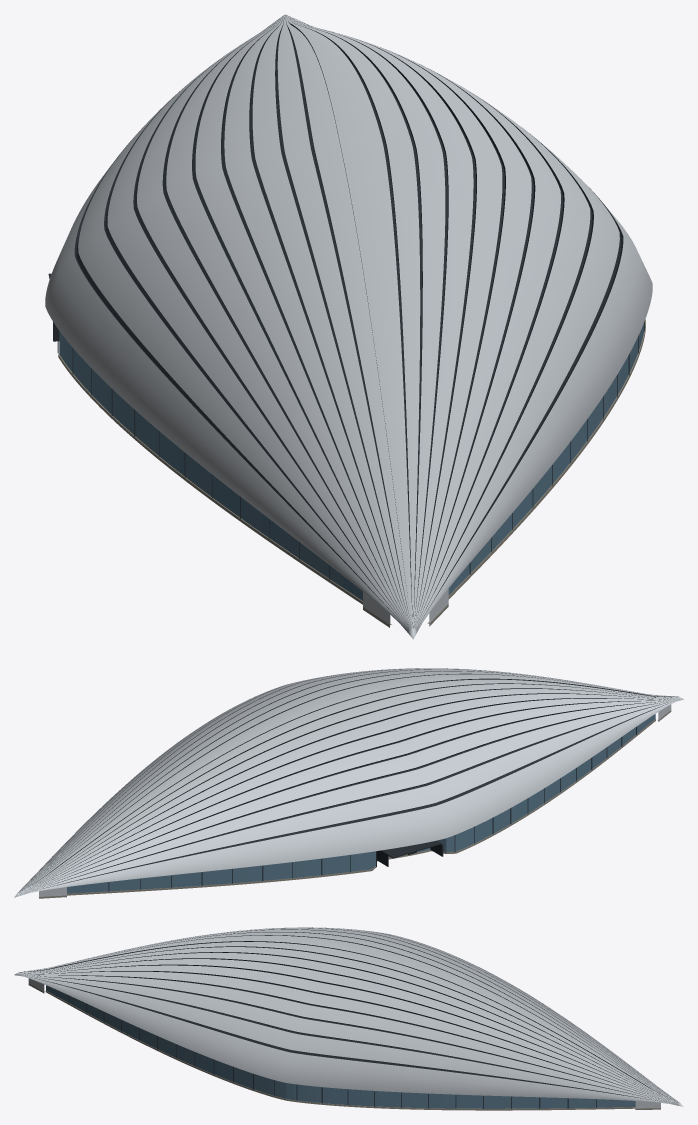
File: vikingskipet-near.glb
3 views of the same model, one above another, from view 1: azimuth 30°, elevation 25°; view 2: azimuth 150°, elevation 25°; view 3: azimuth 270°, elevation 25° (orthographic). The views are drawn at different scales.
Parts seen in each view (by area): view 1: vikingskipet-0-hull, vikingskipet-0-seam, vikingskipet-0-light, vikingskipet-0-concrete; view 2: vikingskipet-0-hull, vikingskipet-0-seam, vikingskipet-0-light, vikingskipet-0-concrete; view 3: vikingskipet-0-hull, vikingskipet-0-seam, vikingskipet-0-light, vikingskipet-0-concrete.
Boxes of the visible parts, box(x1,y1,x2,y2) form: vikingskipet-0-hull: box(45, 14, 652, 639); vikingskipet-0-seam: box(48, 15, 644, 629); vikingskipet-0-light: box(59, 323, 644, 600); vikingskipet-0-concrete: box(58, 319, 645, 627); vikingskipet-0-hull: box(14, 668, 683, 897); vikingskipet-0-seam: box(19, 668, 678, 893); vikingskipet-0-light: box(67, 714, 655, 893); vikingskipet-0-concrete: box(39, 710, 671, 898); vikingskipet-0-hull: box(14, 927, 683, 1108); vikingskipet-0-seam: box(18, 927, 677, 1108); vikingskipet-0-light: box(46, 985, 635, 1108); vikingskipet-0-concrete: box(28, 984, 660, 1110).
Size of the model in its own units: 108 by 35 by 225.
